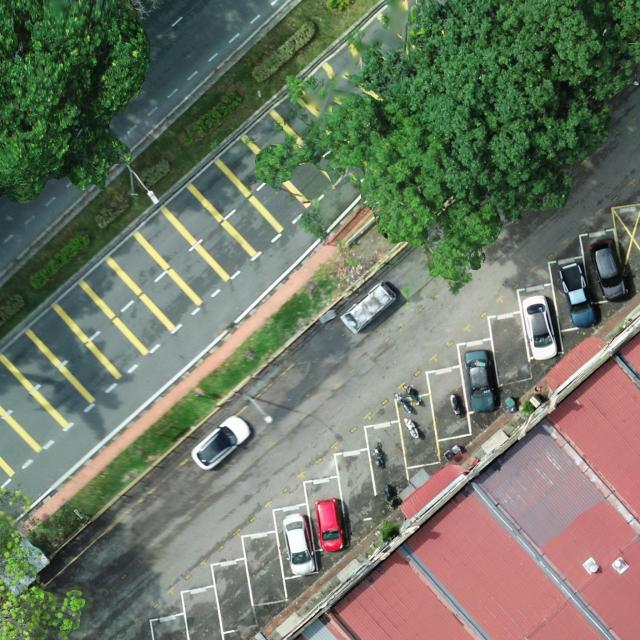Tree: (344, 0, 610, 229), (254, 73, 506, 299), (0, 0, 152, 206), (483, 0, 639, 104), (0, 484, 86, 640)
